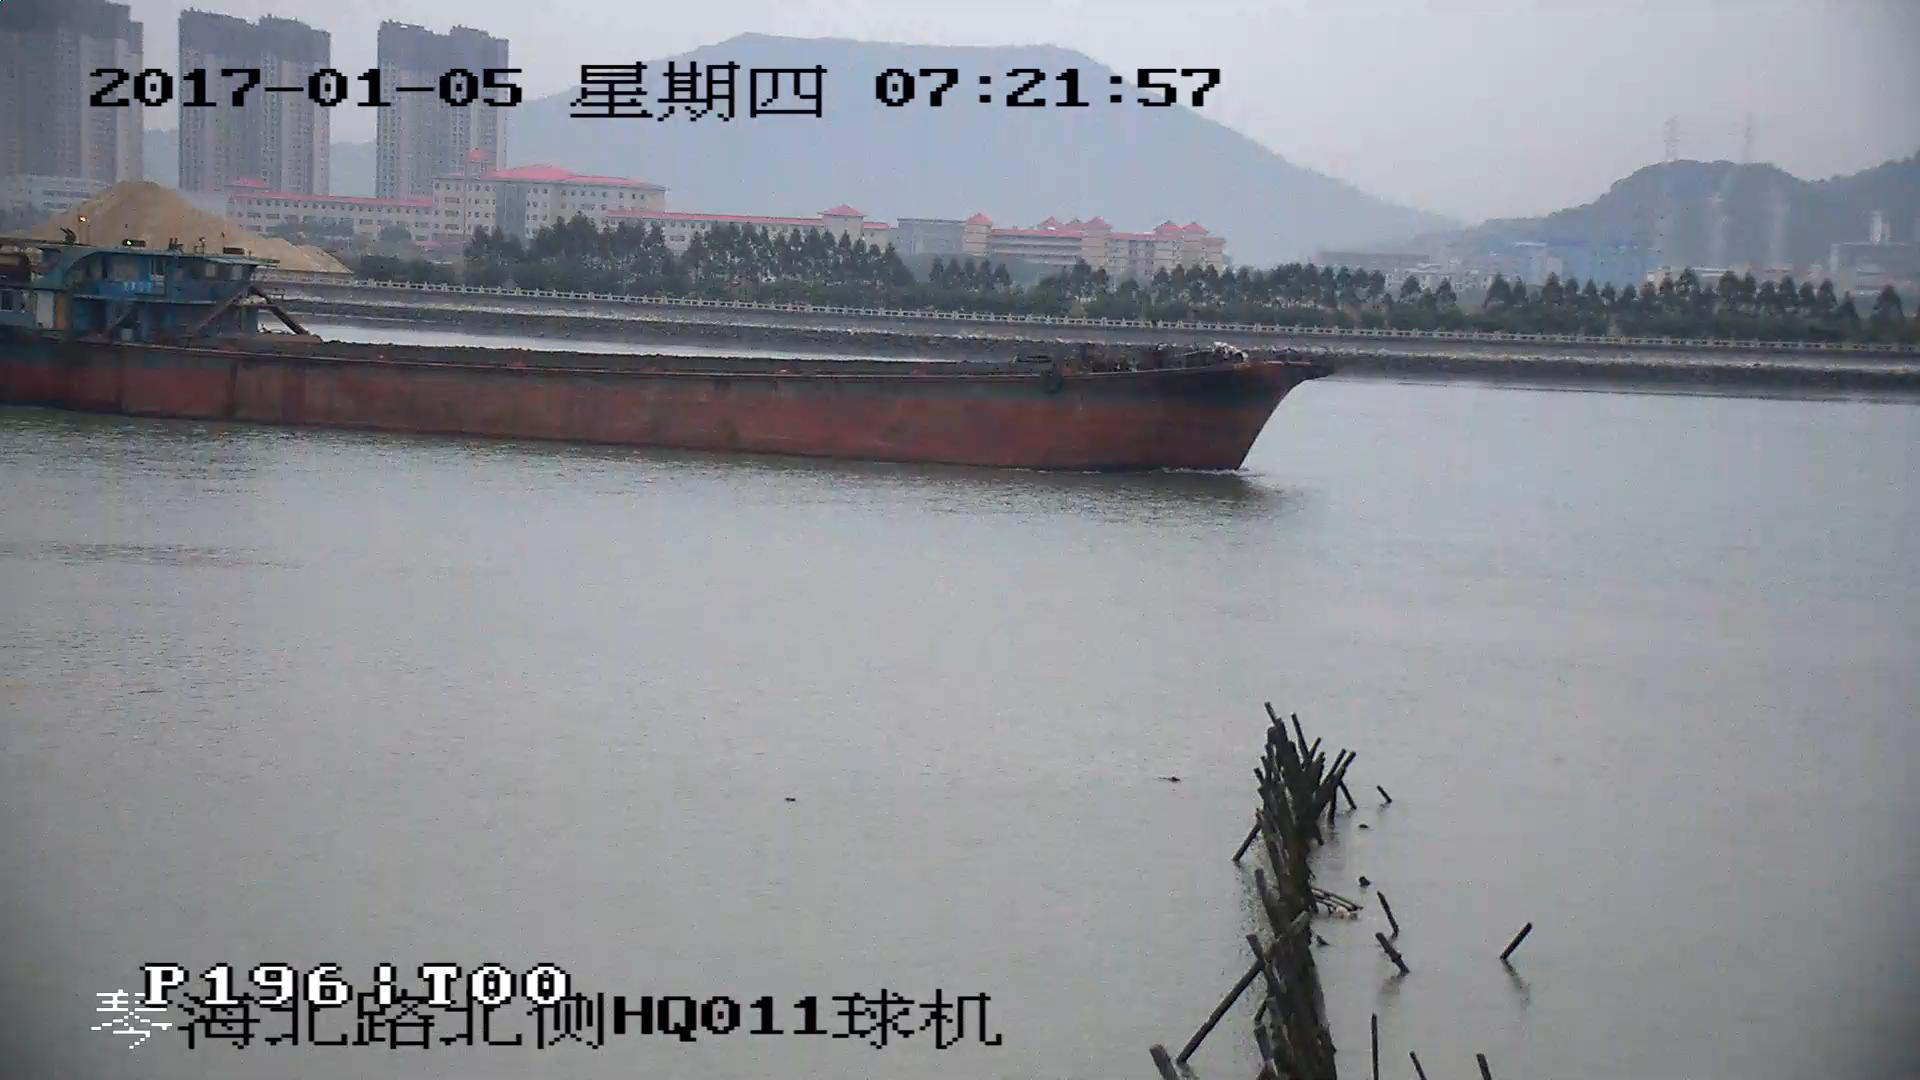bulk cargo carrier: (1, 239, 1334, 471)
